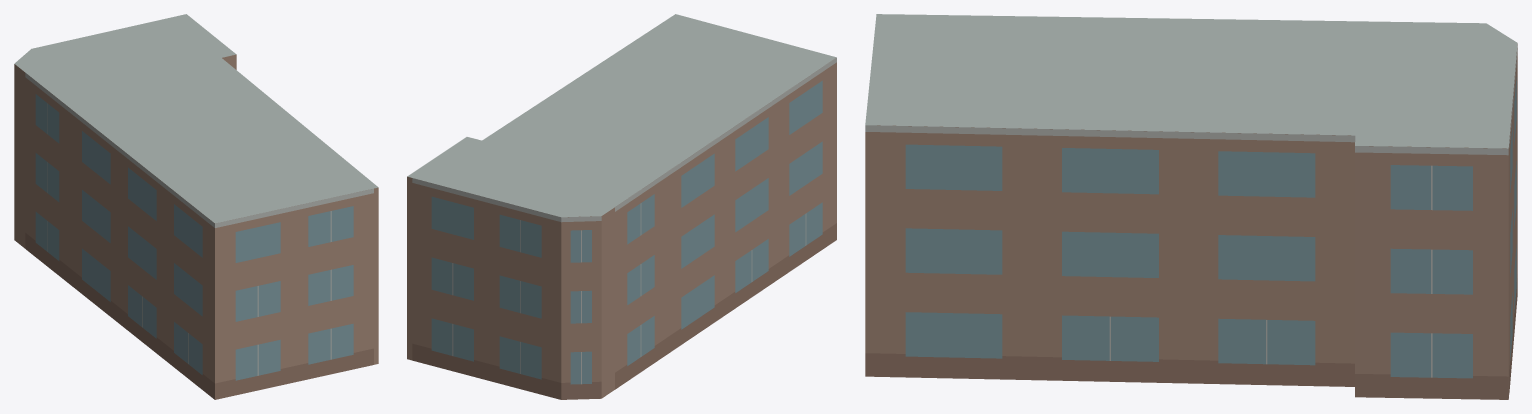
Rendered from survey-upis-32564802.glb.
3 views of the same model, side by side, from view 1: azimuth 30°, elevation 25°; view 2: azimuth 150°, elevation 25°; view 3: azimuth 270°, elevation 25° (orthographic). The views are drawn at different scales.
Parts seen in each view (by area): view 1: survey-upis-32564802.tmp; view 2: survey-upis-32564802.tmp; view 3: survey-upis-32564802.tmp.
Part boxes in pixels (x1,y1,x2,y2): survey-upis-32564802.tmp: (14, 14, 378, 399); survey-upis-32564802.tmp: (407, 14, 836, 399); survey-upis-32564802.tmp: (865, 14, 1517, 399).
Bounding box in the file's own units: 10.51 × 9.15 × 21.53.
